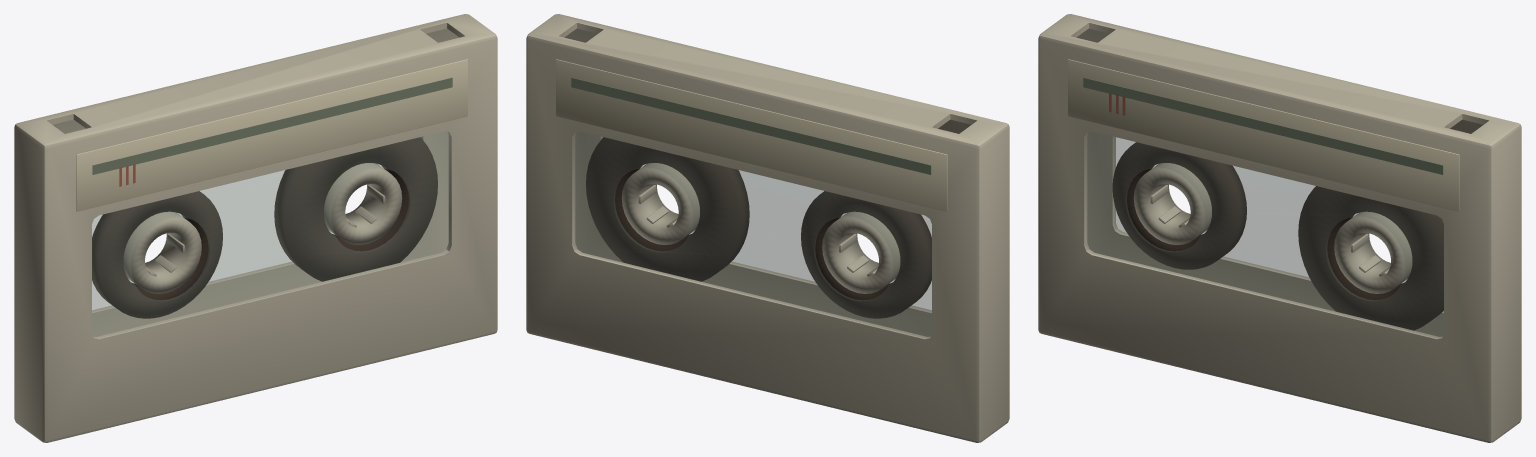
The model's file is A02_Source03.fbx.
3 renders of one model, left to right at view 1: azimuth 30°, elevation 25°; view 2: azimuth 150°, elevation 25°; view 3: azimuth 330°, elevation 25°, orthographic.
Visible parts, largest first — view 1: A02_Source03_Shell, A02_Source03_Window_Front, A02_Source03_Label.001, A02_Source03_Winding_R, A02_Source03_Winding_L, A02_Source03_Window_Back, A02_Source03_Hub_L, A02_Source03_Hub_R, A02_Source03_Accent.001; view 2: A02_Source03_Shell, A02_Source03_Window_Back, A02_Source03_Label, A02_Source03_Winding_R, A02_Source03_Winding_L, A02_Source03_Window_Front, A02_Source03_Hub_L, A02_Source03_Hub_R, A02_Source03_Accent; view 3: A02_Source03_Shell, A02_Source03_Window_Front, A02_Source03_Label.001, A02_Source03_Winding_R, A02_Source03_Winding_L, A02_Source03_Window_Back, A02_Source03_Hub_R, A02_Source03_Hub_L, A02_Source03_Accent.001.
Part boxes in pixels (x1=…): A02_Source03_Shell: x1=14, y1=14, x2=497, y2=442; A02_Source03_Window_Front: x1=92, y1=131, x2=450, y2=338; A02_Source03_Label.001: x1=76, y1=59, x2=467, y2=211; A02_Source03_Winding_R: x1=274, y1=137, x2=437, y2=281; A02_Source03_Winding_L: x1=92, y1=191, x2=222, y2=318; A02_Source03_Window_Back: x1=92, y1=165, x2=381, y2=310; A02_Source03_Hub_L: x1=123, y1=211, x2=201, y2=293; A02_Source03_Hub_R: x1=324, y1=163, x2=402, y2=244; A02_Source03_Accent.001: x1=92, y1=77, x2=452, y2=174; A02_Source03_Shell: x1=526, y1=14, x2=1009, y2=442; A02_Source03_Window_Back: x1=573, y1=131, x2=931, y2=338; A02_Source03_Label: x1=556, y1=59, x2=947, y2=211; A02_Source03_Winding_R: x1=586, y1=137, x2=749, y2=281; A02_Source03_Winding_L: x1=801, y1=191, x2=931, y2=318; A02_Source03_Window_Front: x1=642, y1=165, x2=931, y2=310; A02_Source03_Hub_L: x1=822, y1=211, x2=900, y2=293; A02_Source03_Hub_R: x1=621, y1=163, x2=699, y2=244; A02_Source03_Accent: x1=571, y1=77, x2=931, y2=174; A02_Source03_Shell: x1=1038, y1=14, x2=1521, y2=442; A02_Source03_Window_Front: x1=1085, y1=131, x2=1443, y2=338; A02_Source03_Label.001: x1=1068, y1=59, x2=1459, y2=211; A02_Source03_Winding_R: x1=1298, y1=186, x2=1443, y2=330; A02_Source03_Winding_L: x1=1112, y1=142, x2=1246, y2=269; A02_Source03_Window_Back: x1=1115, y1=137, x2=1405, y2=282; A02_Source03_Hub_R: x1=1334, y1=211, x2=1412, y2=293; A02_Source03_Hub_L: x1=1133, y1=163, x2=1211, y2=244; A02_Source03_Accent.001: x1=1083, y1=77, x2=1443, y2=174.
Bounding box in the file's own units: 10 × 6.3 × 1.29.
